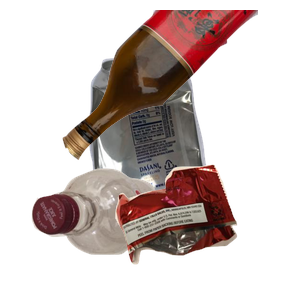glass: (60, 10, 300, 163)
metal: (85, 48, 300, 228)
plastic: (29, 166, 183, 300)
trash: (113, 162, 300, 300)
